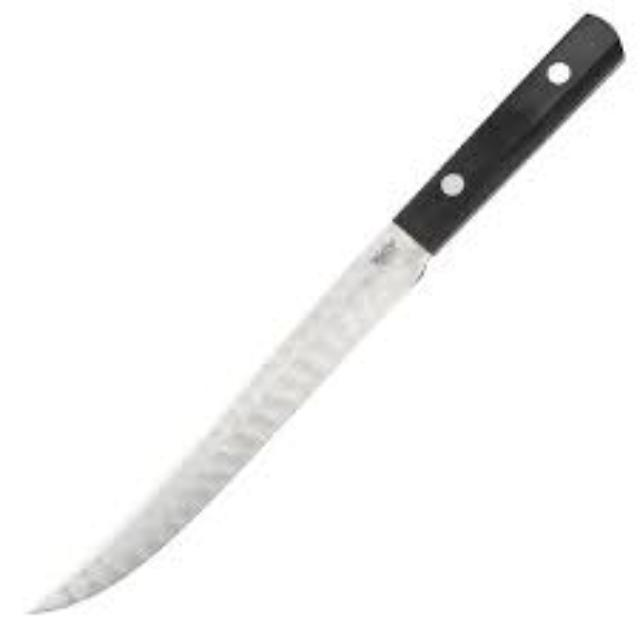Knife: (23, 9, 623, 614)
